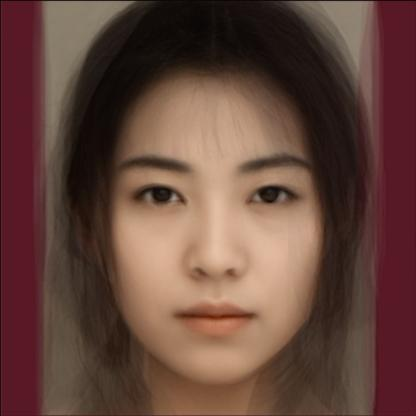Female: (113, 63, 323, 383)
